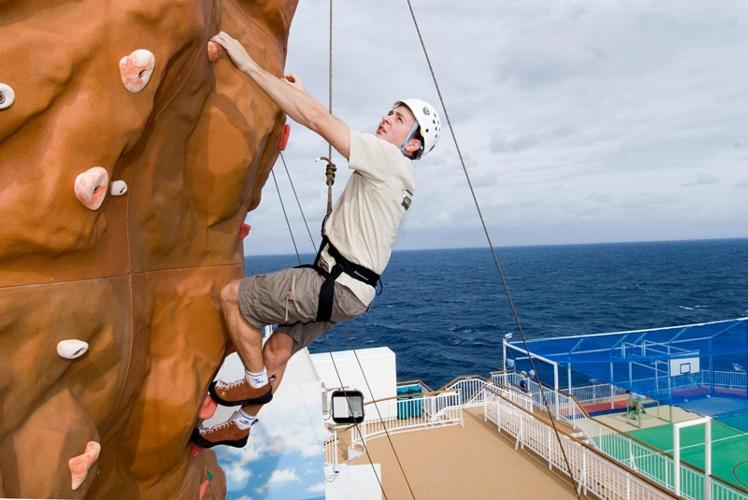person: (193, 31, 442, 451)
